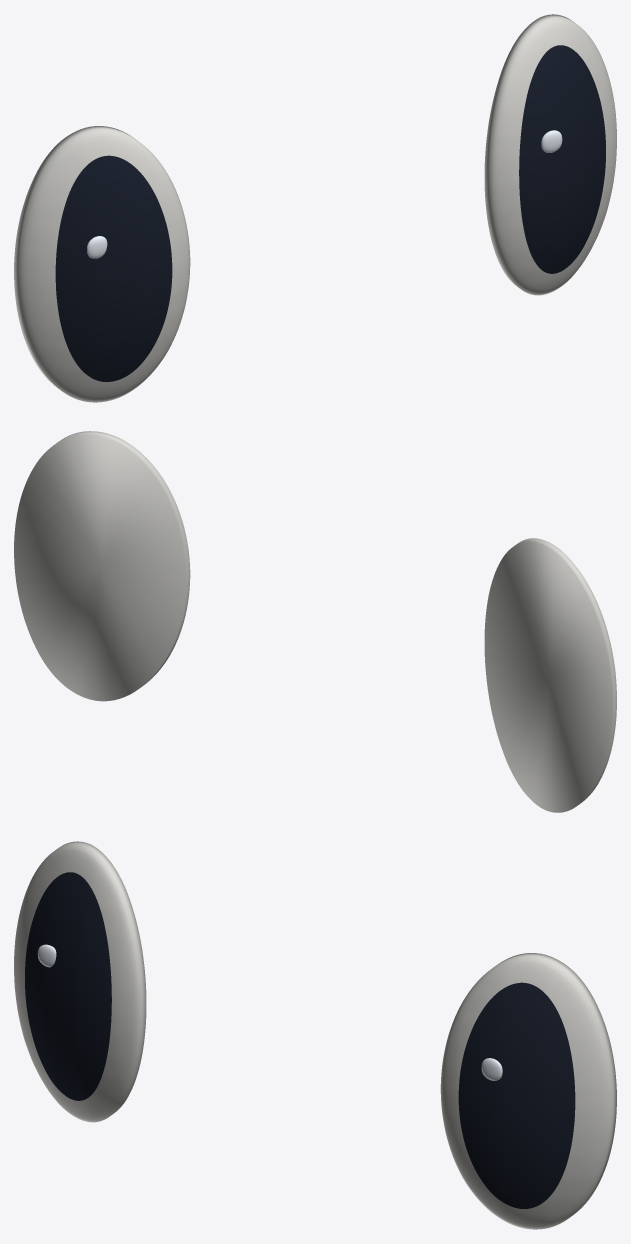
Rendered from Masculine-eyes-original_white.glb.
3 renders of one model, top to bottom at view 1: azimuth 30°, elevation 25°; view 2: azimuth 150°, elevation 25°; view 3: azimuth 330°, elevation 25°, orthographic.
Visible parts, largest first — view 1: Eye / pupil -1, Eye / original -1, Eye / pupil 1, Eye / original 1; view 2: Eye / original 1, Eye / original -1; view 3: Eye / pupil 1, Eye / original 1, Eye / pupil -1, Eye / original -1.
Boxes of the visible parts, <box> form: Eye / pupil -1: <box>55,155,172,381</box>; Eye / original -1: <box>14,126,190,402</box>; Eye / pupil 1: <box>519,45,605,273</box>; Eye / original 1: <box>484,14,616,295</box>; Eye / original 1: <box>14,431,190,701</box>; Eye / original -1: <box>484,538,616,812</box>; Eye / pupil 1: <box>458,982,575,1208</box>; Eye / original 1: <box>440,953,616,1229</box>; Eye / pupil -1: <box>25,872,111,1100</box>; Eye / original -1: <box>14,841,146,1122</box>.
Bounding box in the file's own units: 0.4 × 0.172 × 0.0405.
